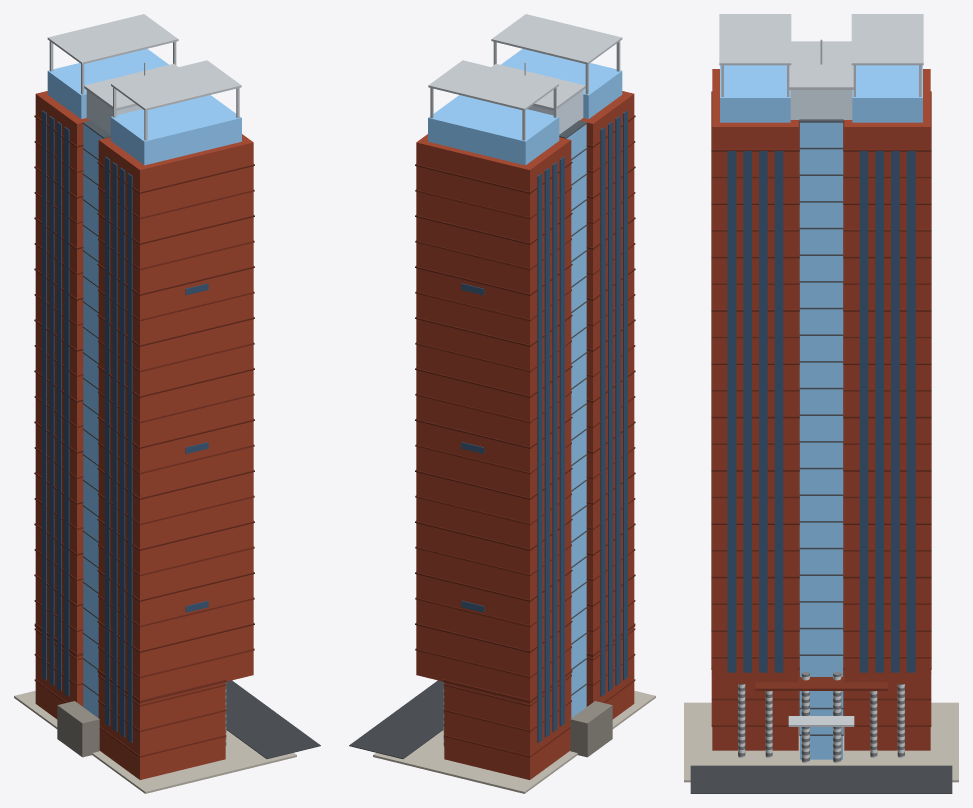
The model's file is kyobo-tower.glb.
3 views of the same model, side by side, from view 1: azimuth 30°, elevation 25°; view 2: azimuth 150°, elevation 25°; view 3: azimuth 270°, elevation 25° (orthographic). The views are drawn at different scales.
Bounding box in the file's own units: 34.8 × 118 × 42.
